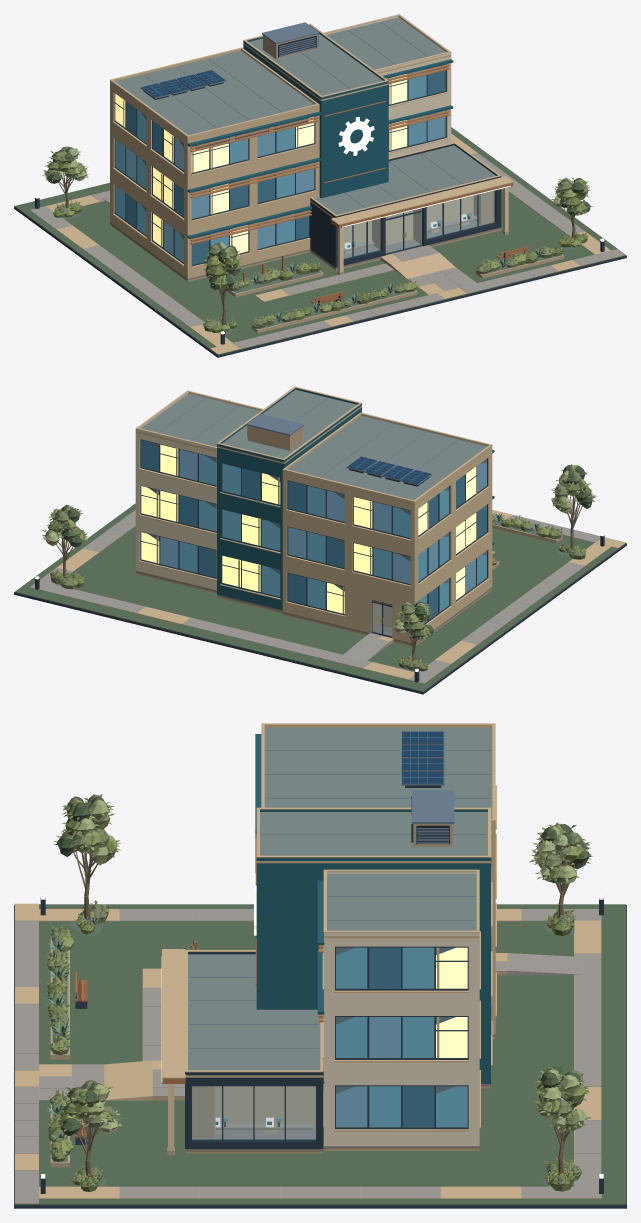
Rendered from instituto_tecnico.fbx.
3 renders of one model, top to bottom at view 1: azimuth 30°, elevation 25°; view 2: azimuth 150°, elevation 25°; view 3: azimuth 270°, elevation 25°, orthographic. The views are drawn at different scales.
Parts seen in each view (by area): view 1: Marquesinas, Muros, Islas de plantacion, Acristalamiento opaco, Senderos y explanadas, Marcos y lamas, Setos y herbaceas, Cristales transparentes, Piedra y bordillos, Remates minerales, Equipamiento de fachada, Arbol 36 (+4 smaller); view 2: Muros, Acristalamiento opaco, Islas de plantacion, Marquesinas, Senderos y explanadas, Marcos y lamas, Remates minerales, Equipamiento de fachada, Piedra y bordillos, Setos y herbaceas, Arbol 36, Arbol 35 (+2 smaller); view 3: Islas de plantacion, Marquesinas, Muros, Senderos y explanadas, Acristalamiento opaco, Marcos y lamas, Cristales transparentes, Setos y herbaceas, Equipamiento de fachada, Remates minerales, Piedra y bordillos, Arbol 36 (+4 smaller).
Boxes of the visible parts, left/top/right/bottom form: Marquesinas: left=110, top=14, right=513, bottom=228; Muros: left=110, top=44, right=501, bottom=278; Islas de plantacion: left=14, top=127, right=626, bottom=355; Acristalamiento opaco: left=115, top=64, right=445, bottom=264; Senderos y explanadas: left=30, top=134, right=625, bottom=354; Marcos y lamas: left=114, top=34, right=495, bottom=266; Setos y herbaceas: left=53, top=200, right=588, bottom=332; Cristales transparentes: left=344, top=191, right=494, bottom=258; Piedra y bordillos: left=14, top=206, right=626, bottom=357; Remates minerales: left=110, top=92, right=509, bottom=281; Equipamiento de fachada: left=140, top=22, right=477, bottom=254; Arbol 36: left=203, top=241, right=244, bottom=325; Muros: left=135, top=407, right=492, bottom=642; Acristalamiento opaco: left=141, top=440, right=486, bottom=623; Islas de plantacion: left=14, top=503, right=626, bottom=691; Marquesinas: left=135, top=386, right=492, bottom=505; Senderos y explanadas: left=30, top=510, right=625, bottom=683; Marcos y lamas: left=140, top=426, right=494, bottom=637; Remates minerales: left=135, top=468, right=492, bottom=646; Equipamiento de fachada: left=246, top=414, right=432, bottom=486; Piedra y bordillos: left=14, top=519, right=626, bottom=694; Setos y herbaceas: left=49, top=513, right=586, bottom=671; Arbol 36: left=550, top=464, right=596, bottom=549; Arbol 35: left=42, top=504, right=88, bottom=577; Islas de plantacion: left=14, top=904, right=626, bottom=1205; Marquesinas: left=161, top=723, right=495, bottom=1083; Muros: left=185, top=826, right=495, bottom=1148; Senderos y explanadas: left=15, top=903, right=601, bottom=1203; Acristalamiento opaco: left=335, top=947, right=467, bottom=1127; Marcos y lamas: left=191, top=734, right=491, bottom=1141; Cristales transparentes: left=192, top=1086, right=315, bottom=1139; Setos y herbaceas: left=45, top=900, right=582, bottom=1191; Equipamiento de fachada: left=215, top=731, right=454, bottom=1133; Remates minerales: left=167, top=785, right=496, bottom=1155; Piedra y bordillos: left=14, top=905, right=626, bottom=1208; Arbol 36: left=53, top=794, right=121, bottom=920.
Bounding box in the file's own units: 29 × 11.61 × 25.
